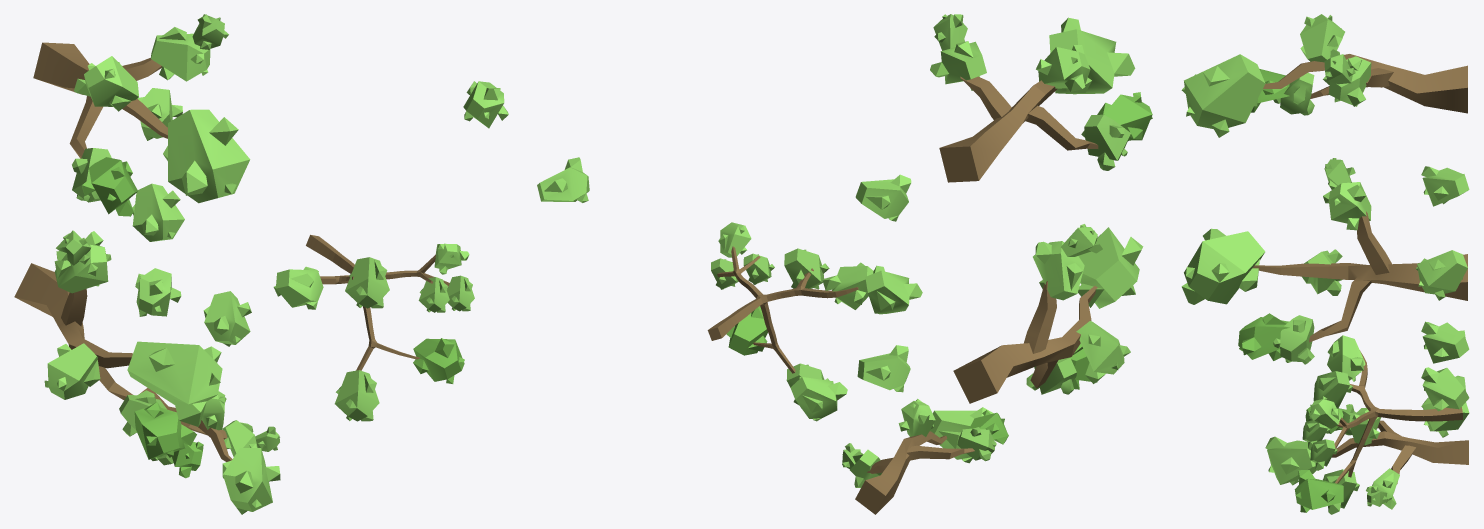
Rendered from charlottesville.glb.
3 renders of one model, left to right at view 1: azimuth 30°, elevation 25°; view 2: azimuth 150°, elevation 25°; view 3: azimuth 270°, elevation 25°, orthographic. The views are drawn at different scales.
Parts seen in each view (by area): view 1: BranchesCBranchesuBranchesbBrancheseBranches.Branches0Branc. (×26), Trunk.017, Trunk.016, Plane_Material_002_0.012, BranchesCBranchesuBranchesbBrancheseBranchesBranch.016, BranchesCBranchesuBranchesbBrancheseBranchesBranch.017, Trunk.018; view 2: BranchesCBranchesuBranchesbBrancheseBranches.Branches0Branc. (×22), Trunk.016, Trunk.017, Trunk.018, Plane_Material_002_0.012, BranchesCBranchesuBranchesbBrancheseBranchesBranch.016, BranchesCBranchesuBranchesbBrancheseBranchesBranch.017, BranchesCBranchesuBranchesbBrancheseBranchesBranch.018; view 3: BranchesCBranchesuBranchesbBrancheseBranches.Branches0Branc. (×25), Trunk.017, Trunk.016, Trunk.018, Plane_Material_002_0.012, BranchesCBranchesuBranchesbBrancheseBranchesBranch.017, BranchesCBranchesuBranchesbBrancheseBranchesBranch.016.
Part boxes in pixels (x1=…): BranchesCBranchesuBranchesbBrancheseBranches.Branches0Branc. (×26): x1=44, y1=14, x2=508, y2=514; Trunk.017: x1=14, y1=263, x2=132, y2=399; Trunk.016: x1=33, y1=42, x2=167, y2=158; Plane_Material_002_0.012: x1=306, y1=234, x2=449, y2=370; BranchesCBranchesuBranchesbBrancheseBranchesBranch.016: x1=72, y1=148, x2=111, y2=202; BranchesCBranchesuBranchesbBrancheseBranchesBranch.017: x1=119, y1=390, x2=166, y2=436; Trunk.018: x1=140, y1=388, x2=232, y2=461; BranchesCBranchesuBranchesbBrancheseBranches.Branches0Branc. (×22): x1=537, y1=14, x2=1152, y2=488; Trunk.016: x1=939, y1=76, x2=1098, y2=182; Trunk.017: x1=953, y1=281, x2=1097, y2=403; Trunk.018: x1=855, y1=431, x2=974, y2=514; Plane_Material_002_0.012: x1=707, y1=246, x2=858, y2=373; BranchesCBranchesuBranchesbBrancheseBranchesBranch.016: x1=1081, y1=114, x2=1130, y2=170; BranchesCBranchesuBranchesbBrancheseBranchesBranch.017: x1=1026, y1=357, x2=1076, y2=394; BranchesCBranchesuBranchesbBrancheseBranchesBranch.018: x1=957, y1=427, x2=996, y2=461; BranchesCBranchesuBranchesbBrancheseBranches.Branches0Branc. (×25): x1=1181, y1=14, x2=1469, y2=514; Trunk.017: x1=1252, y1=211, x2=1467, y2=342; Trunk.016: x1=1263, y1=54, x2=1467, y2=113; Trunk.018: x1=1331, y1=420, x2=1468, y2=483; Plane_Material_002_0.012: x1=1334, y1=351, x2=1462, y2=483; BranchesCBranchesuBranchesbBrancheseBranchesBranch.017: x1=1273, y1=315, x2=1314, y2=364; BranchesCBranchesuBranchesbBrancheseBranchesBranch.016: x1=1273, y1=72, x2=1314, y2=115.
Size of what is drawn, in the model's own units: 2.69 by 2.34 by 1.43.
